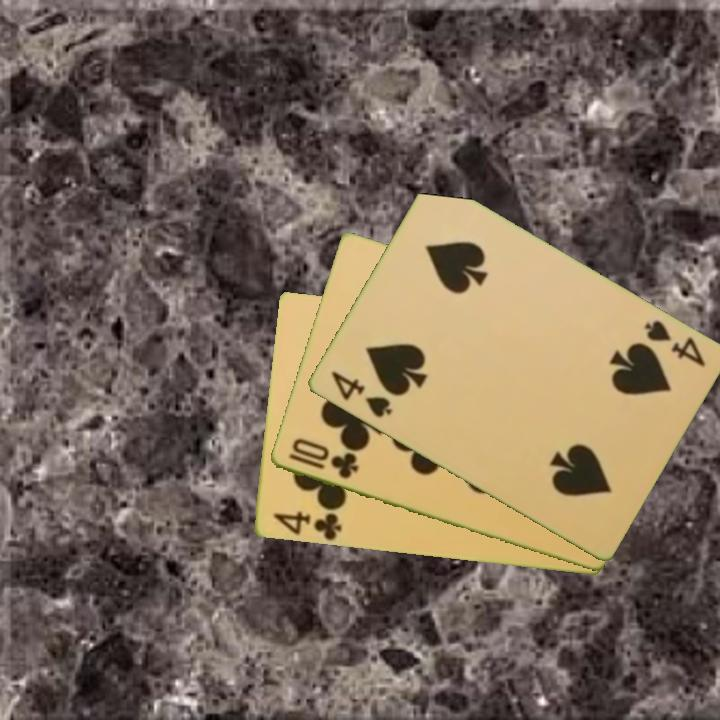10c: (284, 435, 361, 482)
4c: (269, 506, 344, 543)
4s: (640, 316, 709, 370), (327, 367, 395, 421)
